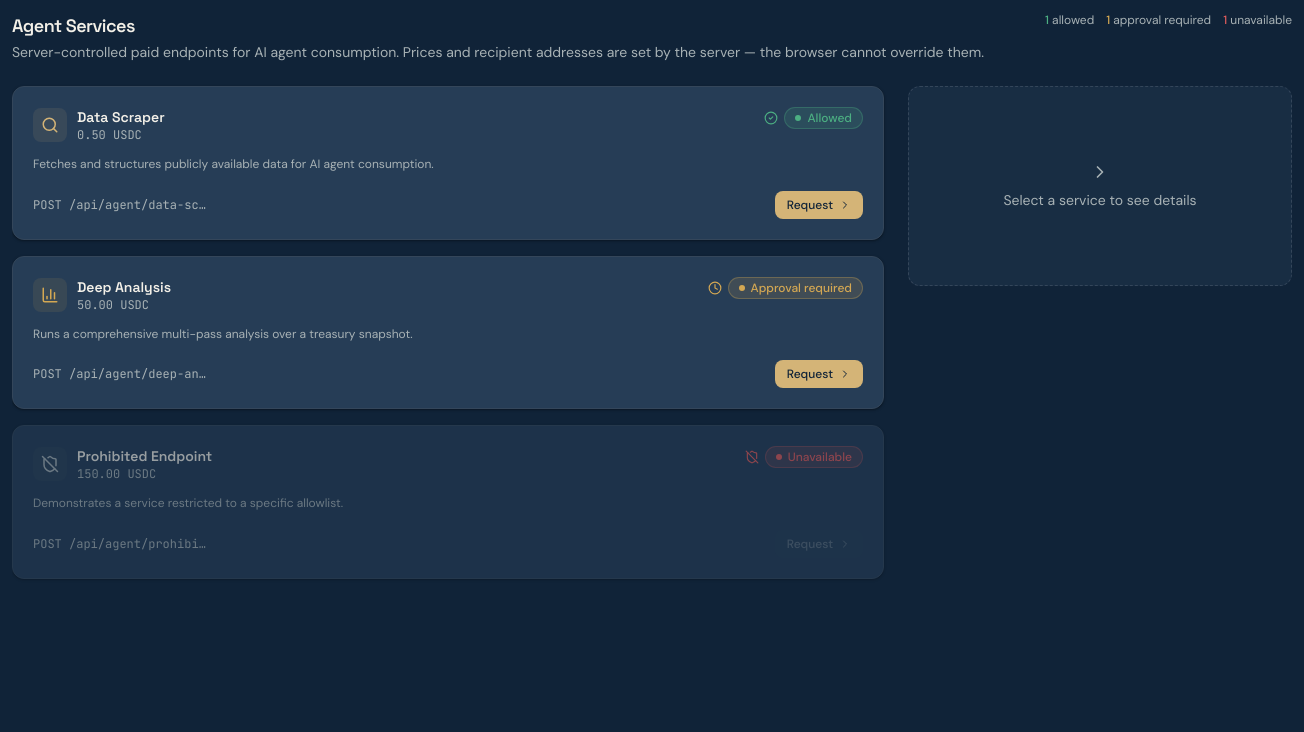
Scenario: AgentServicesView — service selection › switches detail panel when a different card is selected
The width and height of the screenshot is (1304, 732).
What coordinates should you click on to do the following:
click the button with test id "service-card-data-scraper"
I would click on:
 (50, 125)
Its box is [12, 86, 884, 240].
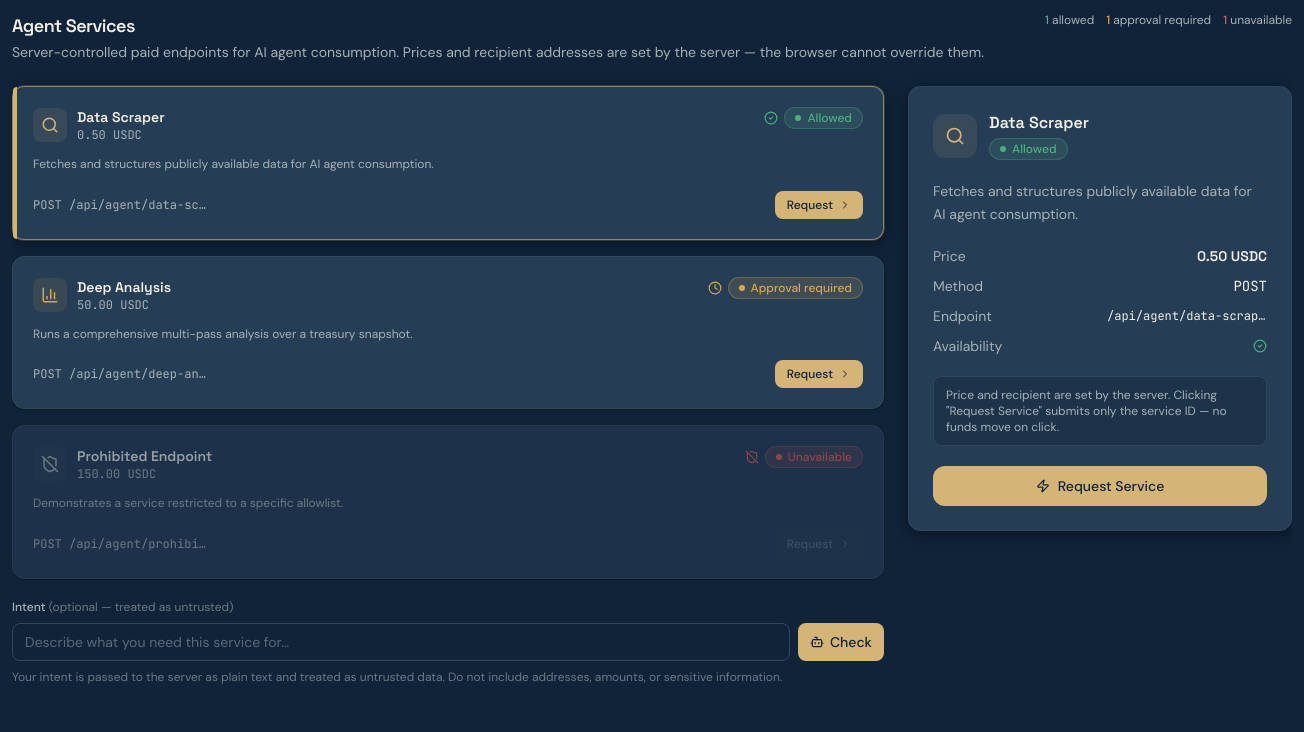
What coordinates should you click on to do the following:
click the button with test id "service-card-deep-analysis"
I would click on:
 (50, 294)
Its box is [12, 256, 884, 409].
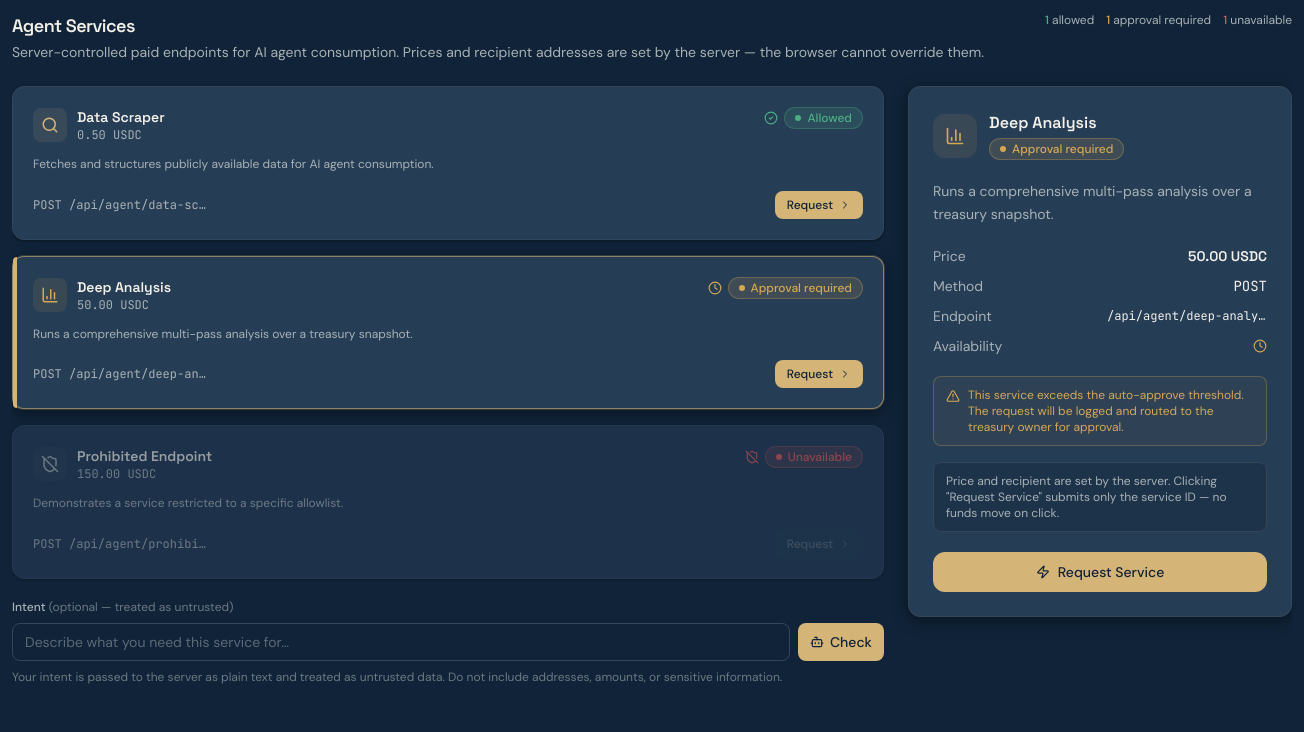
Expected: the element with test id "service-detail-panel" does not show "Fetches and structures"
Result: the element with test id "service-detail-panel" shows "Deep Analysis" at [989, 112, 1096, 133]
